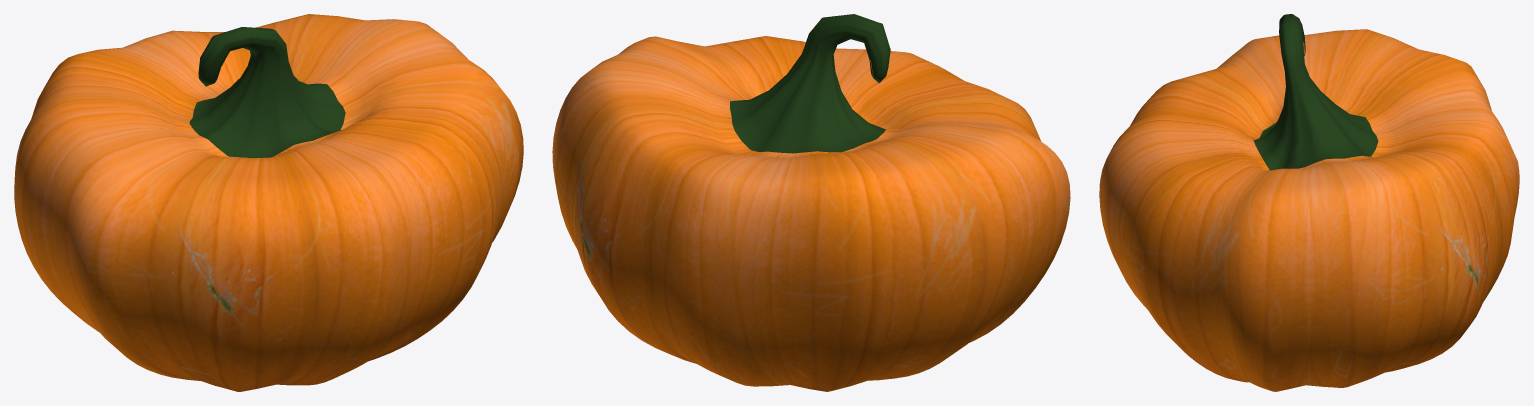
The model's file is PUMPKINSMALL.fbx.
The picture shows the model from 3 angles, left to right: view 1: azimuth 30°, elevation 25°; view 2: azimuth 150°, elevation 25°; view 3: azimuth 270°, elevation 25°; orthographic projection. The views are drawn at different scales.
Parts seen in each view (by area): view 1: pSphere2; view 2: pSphere2; view 3: pSphere2.
Boxes of the visible parts, x1,y1,x2,y2 form: pSphere2: (14, 14, 523, 391); pSphere2: (552, 14, 1070, 391); pSphere2: (1099, 14, 1519, 391).
Bounding box in the file's own units: 0.6887 × 0.5179 × 0.6072.
2 materials, 1 textured.
